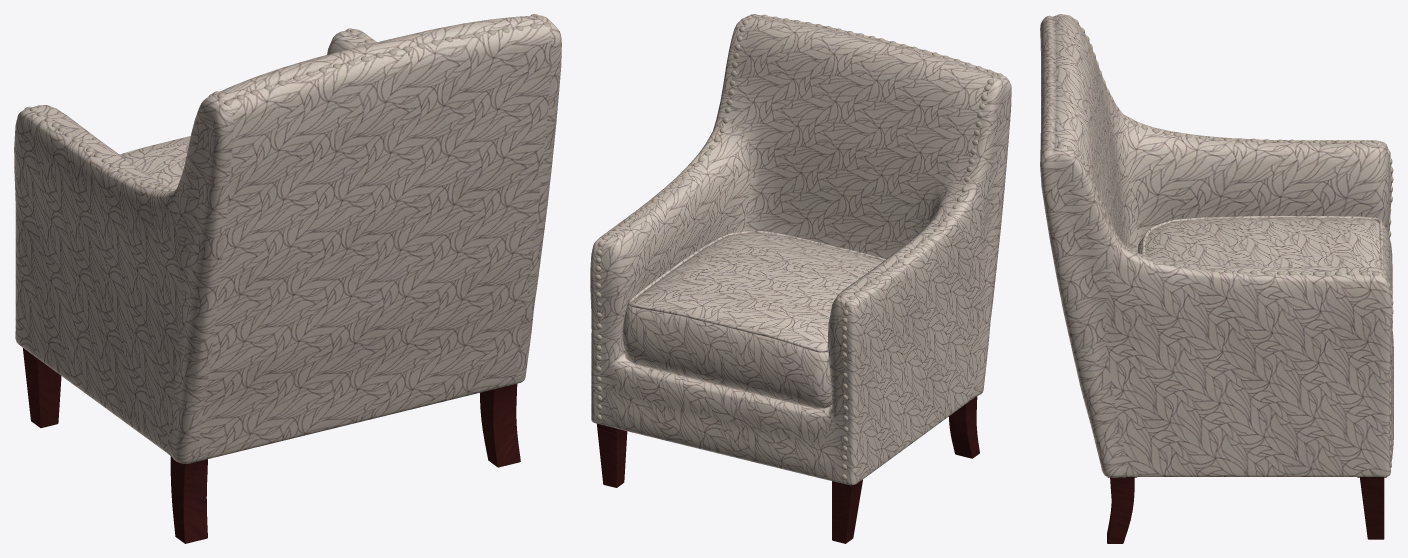
File: abo_B07DBB1R1P.glb
The picture shows the model from 3 angles, left to right: view 1: azimuth 30°, elevation 25°; view 2: azimuth 150°, elevation 25°; view 3: azimuth 270°, elevation 25°; orthographic projection. The views are drawn at different scales.
Visible parts, largest first — view 1: RootNode; view 2: RootNode; view 3: RootNode.
Boxes of the visible parts, box(x1,y1,x2,y2) form: RootNode: box(14, 14, 561, 543); RootNode: box(590, 14, 1011, 543); RootNode: box(1040, 14, 1393, 543).
Size of the model in its own units: 0.6229 by 0.8164 by 0.6511.
Materials: 1 (1 with a texture image).
